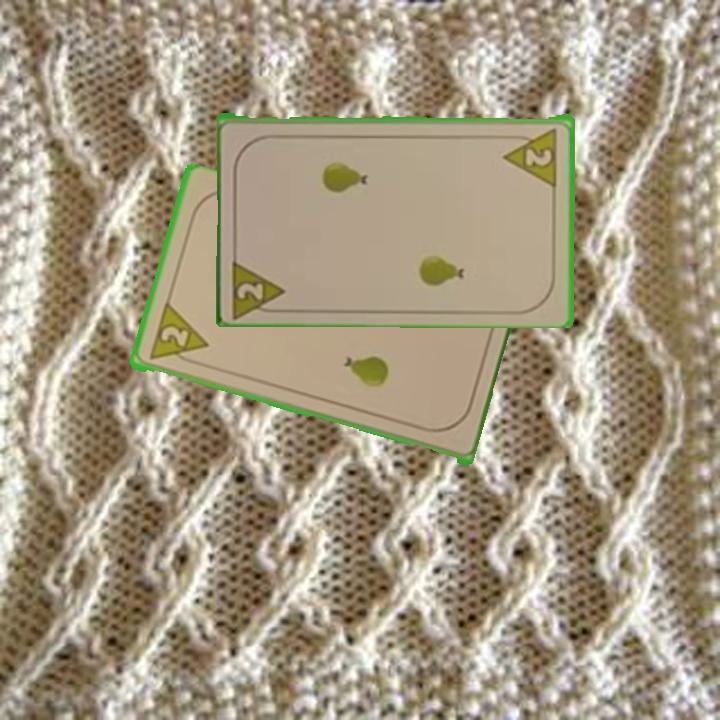2p: (144, 301, 210, 367), (229, 253, 290, 318), (501, 124, 560, 187)
